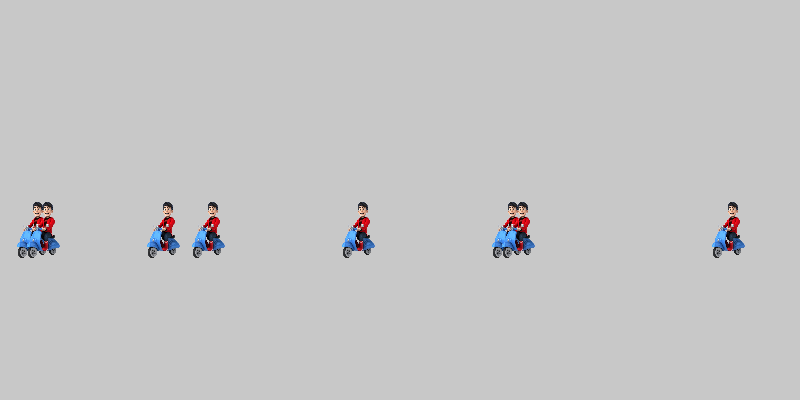no_helmet: (5, 200, 65, 260), (15, 200, 75, 260), (135, 200, 195, 260), (180, 200, 240, 260), (330, 200, 390, 260), (480, 200, 540, 260), (490, 200, 550, 260), (700, 200, 760, 260)
